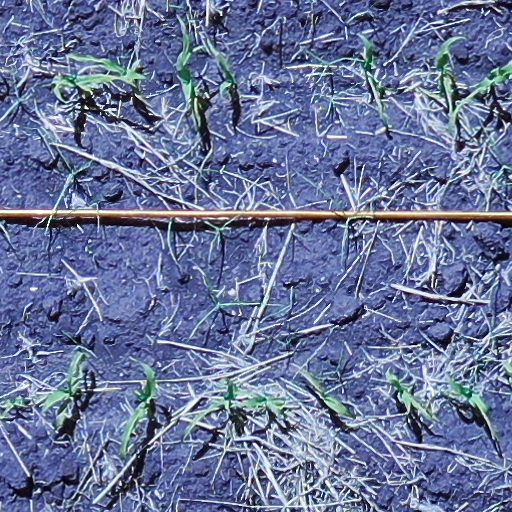planta: (420, 35, 464, 133), (39, 351, 89, 431), (119, 362, 156, 456), (445, 375, 498, 440), (175, 14, 202, 130), (182, 379, 237, 435), (361, 36, 393, 127), (385, 366, 437, 421), (303, 370, 355, 417), (68, 52, 146, 82), (52, 72, 137, 98), (231, 390, 289, 419), (215, 50, 237, 92)
